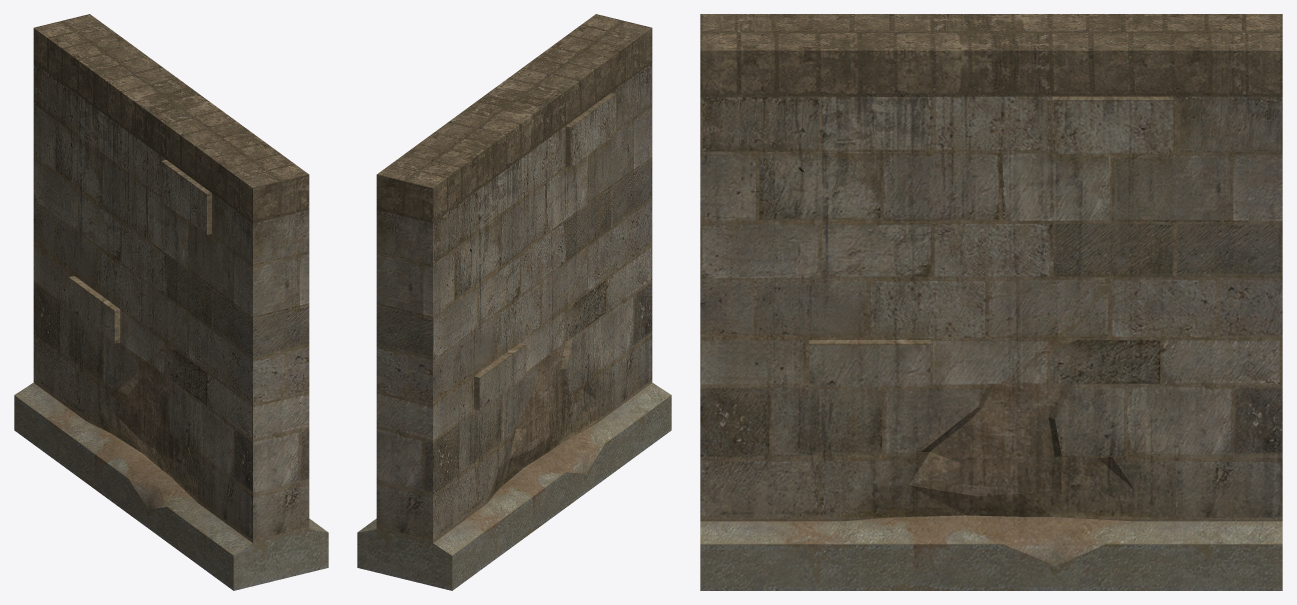
The model's file is bg_lut_lutomb_wall05a_sm_old.FBX.
3 renders of one model, left to right at view 1: azimuth 30°, elevation 25°; view 2: azimuth 150°, elevation 25°; view 3: azimuth 270°, elevation 25°, orthographic. The views are drawn at different scales.
Visible parts, largest first — view 1: bg_lut_lutomb_wall05a_sm_old; view 2: bg_lut_lutomb_wall05a_sm_old; view 3: bg_lut_lutomb_wall05a_sm_old.
Part boxes in pixels (left/top/right/bottom): bg_lut_lutomb_wall05a_sm_old: left=14, top=14, right=328, bottom=590; bg_lut_lutomb_wall05a_sm_old: left=357, top=14, right=671, bottom=590; bg_lut_lutomb_wall05a_sm_old: left=700, top=14, right=1282, bottom=590.
Bounding box in the file's own units: 64 × 256 × 256.
